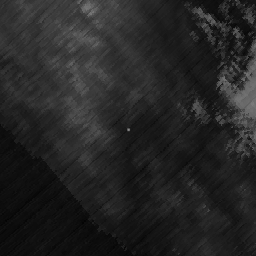Target: (61, 121, 67, 127)
